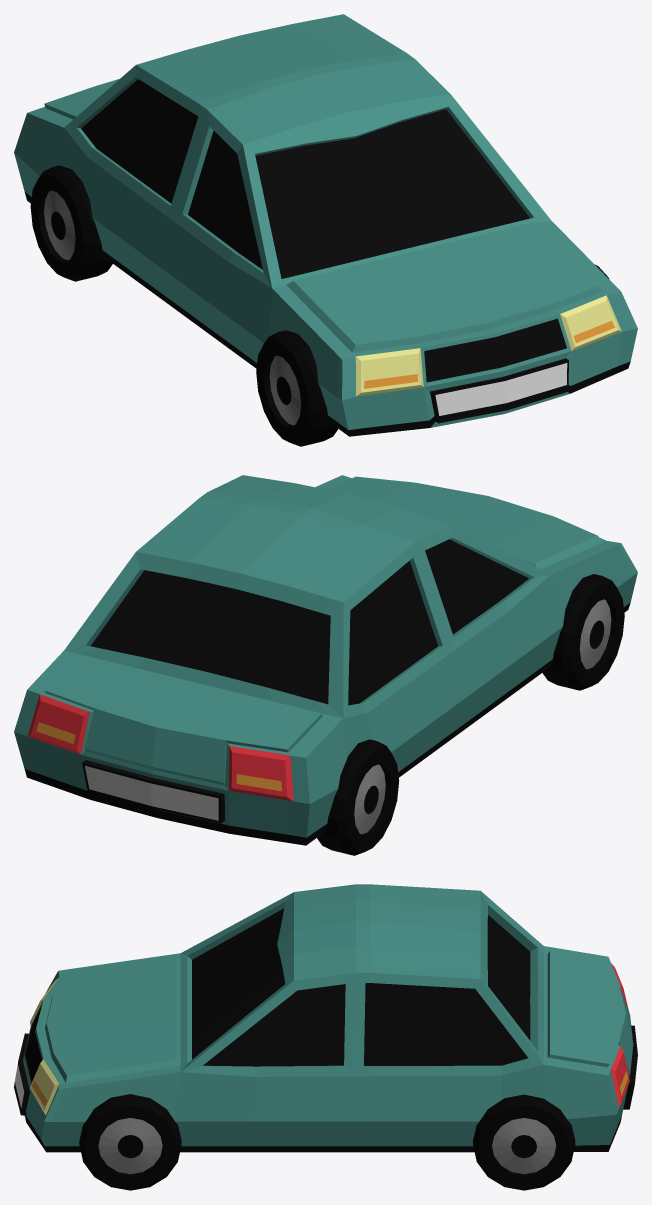
File: car01.fbx
3 views of the same model, one above another, from view 1: azimuth 30°, elevation 25°; view 2: azimuth 150°, elevation 25°; view 3: azimuth 270°, elevation 25° (orthographic). The views are drawn at different scales.
Parts seen in each view (by area): view 1: Auto, Reifen.002, Reifen.003; view 2: Auto, Reifen.002, Reifen.003; view 3: Auto, Reifen, Reifen.001.
Boxes of the visible parts, x1,y1,x2,y2 form: Auto: (14,14,637,436); Reifen.002: (256,330,337,446); Reifen.003: (30,165,112,281); Auto: (14,475,637,845); Reifen.002: (542,574,624,690); Reifen.003: (317,739,399,855); Auto: (14,884,637,1152); Reifen: (79,1094,181,1190); Reifen.001: (473,1094,575,1190).
Bounding box in the file's own units: 226 × 161 × 444.
